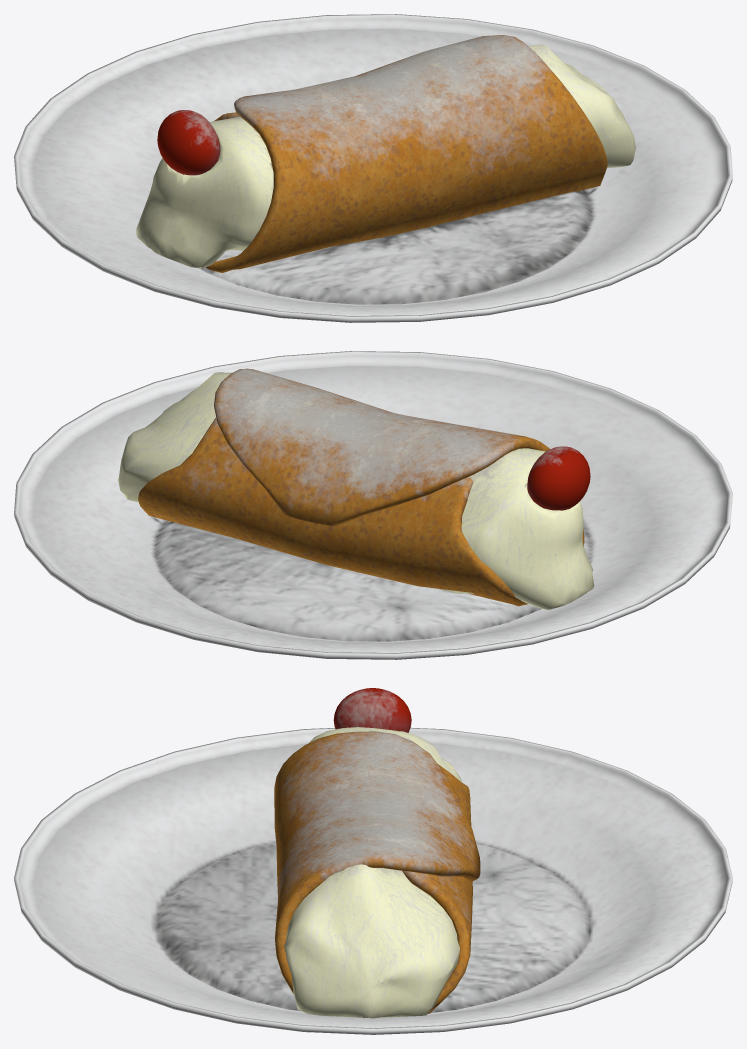
The picture shows the model from 3 angles, top to bottom: view 1: azimuth 30°, elevation 25°; view 2: azimuth 150°, elevation 25°; view 3: azimuth 270°, elevation 25°; orthographic projection.
Visible parts, largest first — view 1: plate; view 2: plate; view 3: plate.
Part boxes in pixels (x1,y1,x2,y2): plate: (14, 14, 732, 322); plate: (14, 351, 732, 659); plate: (14, 688, 732, 1034).
Size of the model in its own units: 75.35 by 16.91 by 75.35.
Materials: 1 (1 with a texture image).
